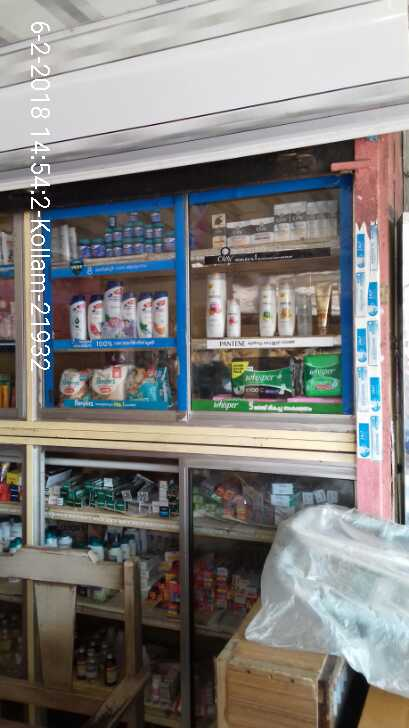vicks: (76, 204, 180, 262)
